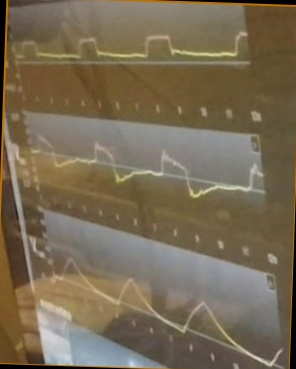Accumulation Flow: (31, 130, 264, 201)
Volume: (53, 254, 282, 366)
